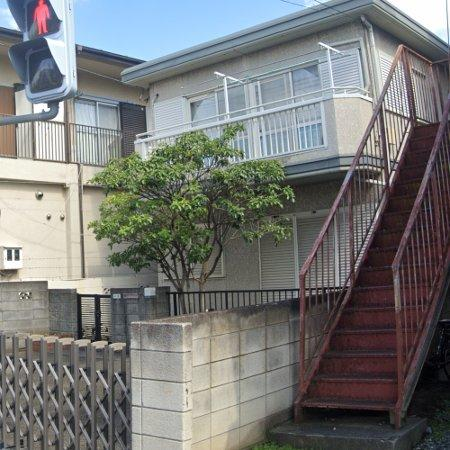stairs: (299, 103, 450, 427)
